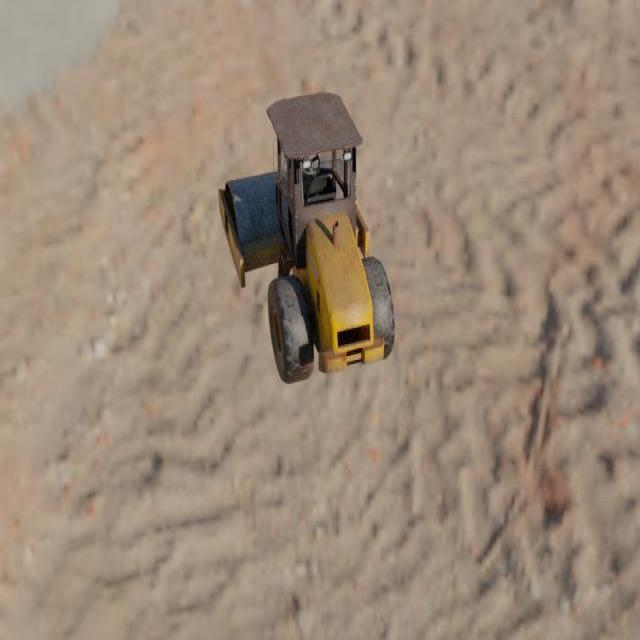Roller: (217, 91, 395, 384)
